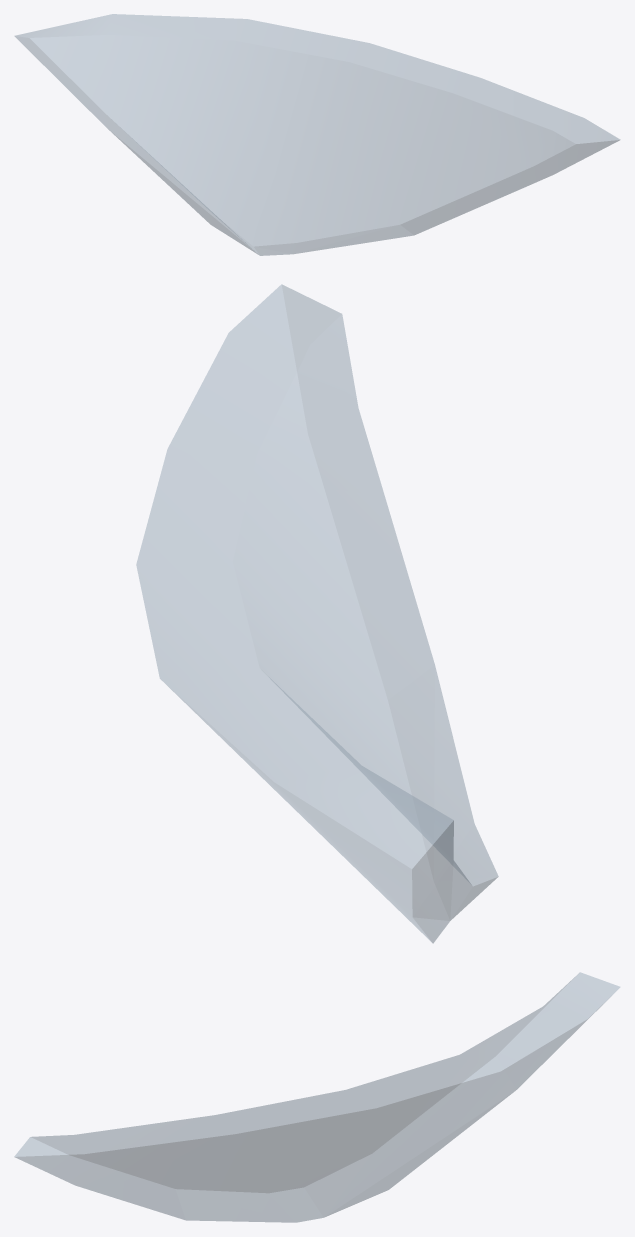
File: piece19.obj
3 views of the same model, one above another, from view 1: azimuth 30°, elevation 25°; view 2: azimuth 150°, elevation 25°; view 3: azimuth 270°, elevation 25° (orthographic). The views are drawn at different scales.
Visible parts, largest first — view 1: 立方体.002_cell.093; view 2: 立方体.002_cell.093; view 3: 立方体.002_cell.093.
Part boxes in pixels (box(x1,y1,x2,y2)): 立方体.002_cell.093: box(14, 14, 620, 255); 立方体.002_cell.093: box(136, 284, 498, 943); 立方体.002_cell.093: box(14, 972, 620, 1222).
Bounding box in the file's own units: 0.0771 × 0.0354 × 0.1068.
